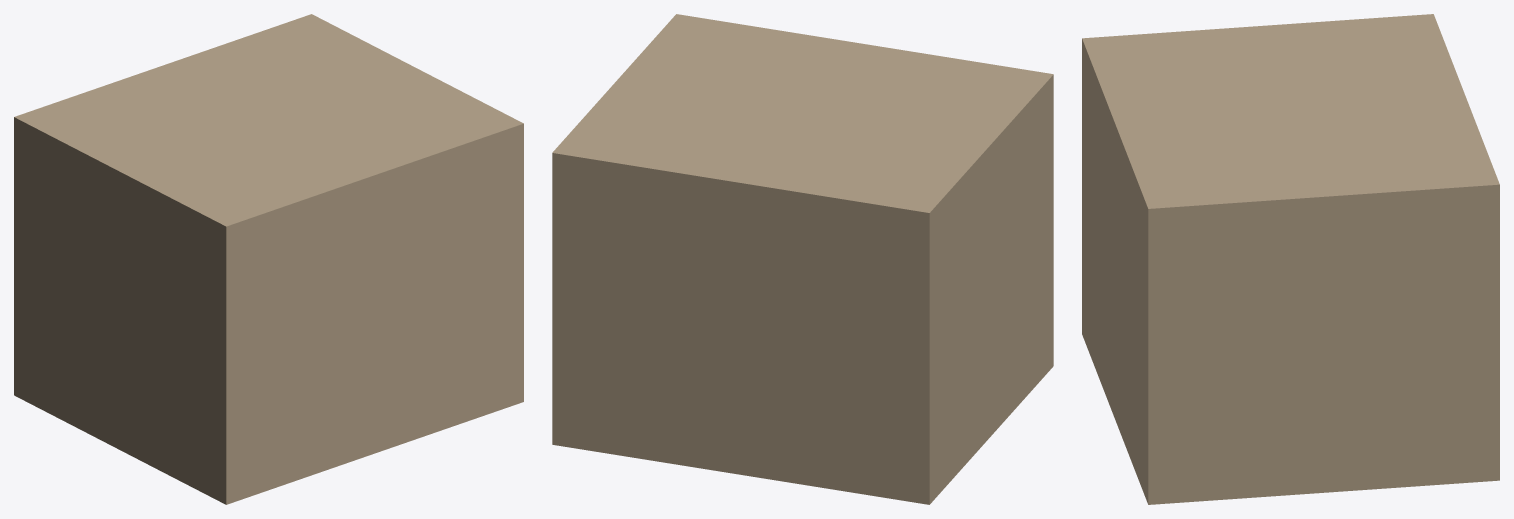
The model's file is bld_107639517.dae.
The picture shows the model from 3 angles, left to right: view 1: azimuth 30°, elevation 25°; view 2: azimuth 150°, elevation 25°; view 3: azimuth 270°, elevation 25°; orthographic projection. The views are drawn at different scales.
Visible parts, largest first — view 1: bld_107639517; view 2: bld_107639517; view 3: bld_107639517.
Part boxes in pixels (x1,y1,x2,y2): bld_107639517: (14, 14, 523, 504); bld_107639517: (552, 14, 1053, 504); bld_107639517: (1082, 14, 1499, 504).
Size of the model in its own units: 11.3 by 10.24 by 8.
